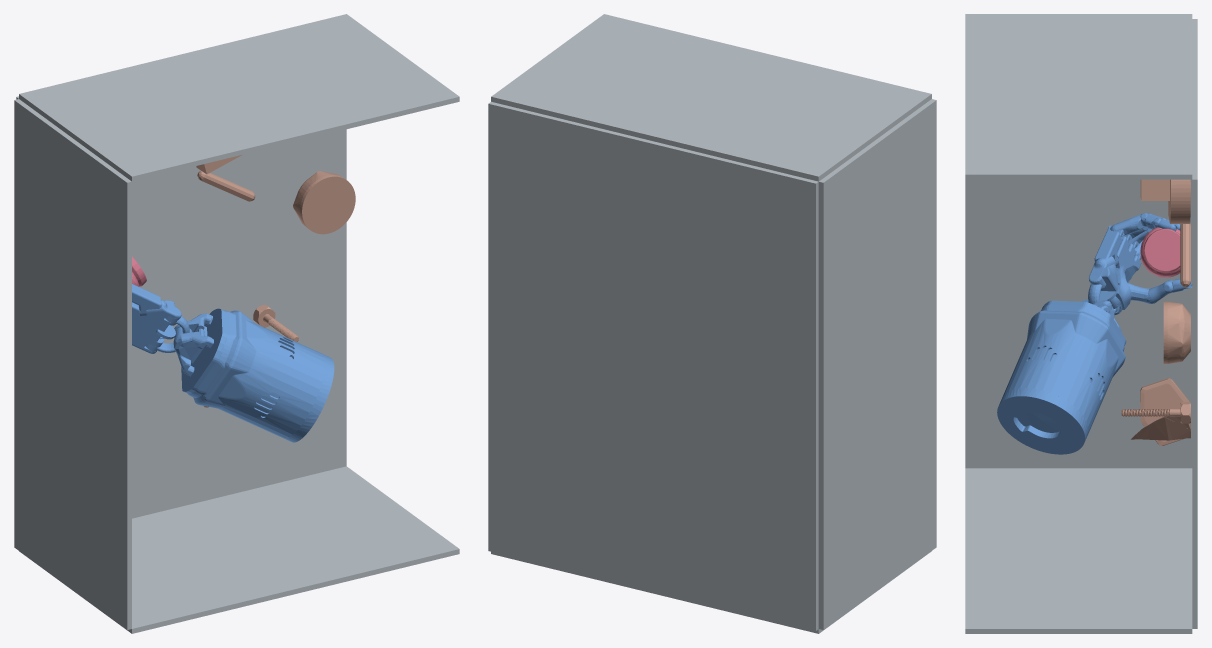
3 renders of one model, left to right at view 1: azimuth 30°, elevation 25°; view 2: azimuth 150°, elevation 25°; view 3: azimuth 270°, elevation 25°, orthographic.
Visible parts, largest first — view 1: environment, hand, obstacle_005, obstacle_002, obstacle_003; view 2: environment; view 3: environment, hand, world, obstacle_001, obstacle_005, obstacle_004, obstacle_000, obstacle_003, obstacle_002.
Part boxes in pixels (bbox=[...]): environment: bbox=[14, 14, 459, 633]; hand: bbox=[132, 284, 334, 442]; obstacle_005: bbox=[293, 171, 355, 234]; obstacle_002: bbox=[197, 171, 255, 201]; obstacle_003: bbox=[253, 304, 298, 341]; environment: bbox=[488, 14, 936, 633]; environment: bbox=[965, 14, 1197, 633]; hand: bbox=[997, 213, 1192, 454]; world: bbox=[1140, 227, 1180, 277]; obstacle_001: bbox=[1140, 179, 1190, 223]; obstacle_005: bbox=[1163, 301, 1190, 363]; obstacle_004: bbox=[1140, 378, 1189, 445]; obstacle_000: bbox=[1131, 416, 1190, 440]; obstacle_003: bbox=[1121, 402, 1190, 423]; obstacle_002: bbox=[1180, 224, 1190, 287].
Bounding box in the file's own units: 0.5567 × 0.7317 × 0.3358.
